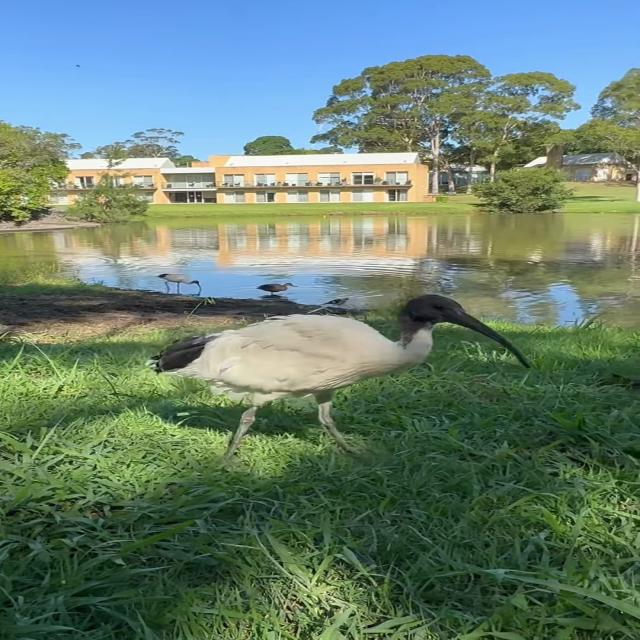Birds-Ibis: (142, 289, 538, 472), (154, 268, 210, 298)
Birds-Other: (255, 280, 301, 298)
